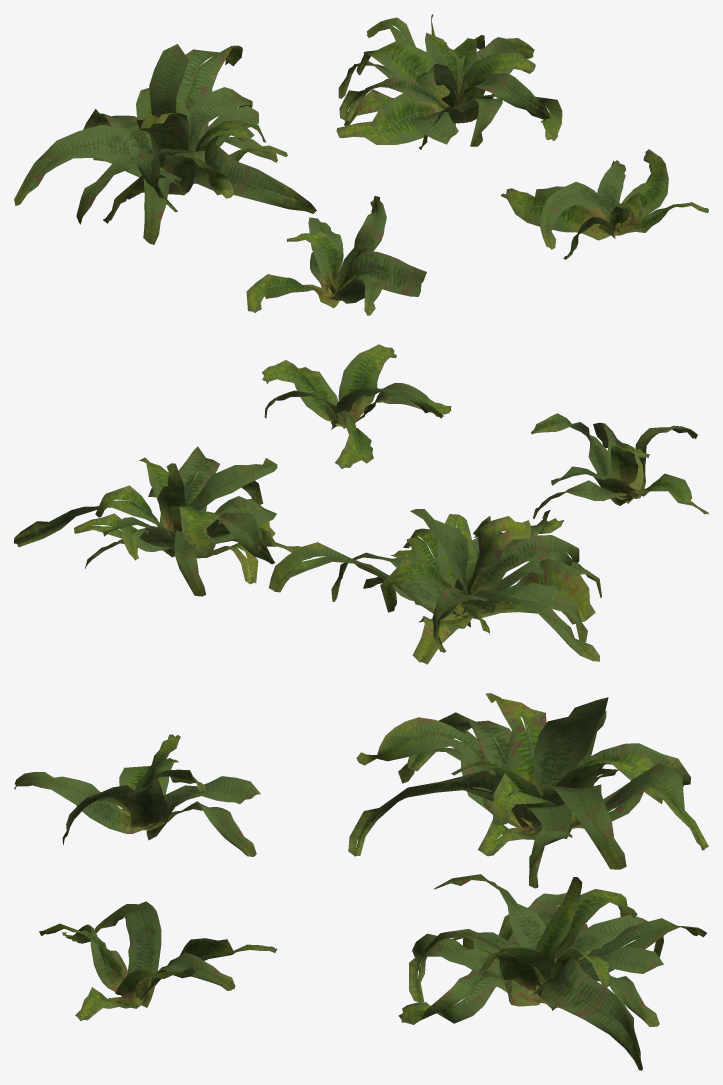
File: fern_02-game.glb
The picture shows the model from 3 angles, top to bottom: view 1: azimuth 30°, elevation 25°; view 2: azimuth 150°, elevation 25°; view 3: azimuth 270°, elevation 25°; orthographic projection. The views are drawn at different scales.
Parts seen in each view (by area): view 1: fern_02_b, fern_02_c, fern_02_d, fern_02_a; view 2: fern_02_b, fern_02_c, fern_02_d, fern_02_a; view 3: fern_02_b, fern_02_c, fern_02_a, fern_02_d.
Boxes of the visible parts, x1,y1,x2,y2 form: fern_02_b: (14,44,316,244); fern_02_c: (336,14,562,149); fern_02_d: (500,149,708,259); fern_02_a: (246,196,426,315); fern_02_b: (269,509,601,664); fern_02_c: (14,446,310,596); fern_02_d: (262,344,451,468); fern_02_a: (531,413,708,518); fern_02_b: (348,693,708,888); fern_02_c: (398,874,706,1070); fern_02_a: (14,734,260,856); fern_02_d: (39,901,277,1020).
Bounding box in the file's own units: 1.97 × 0.4261 × 1.72.
Materials: 1 (1 with a texture image).
